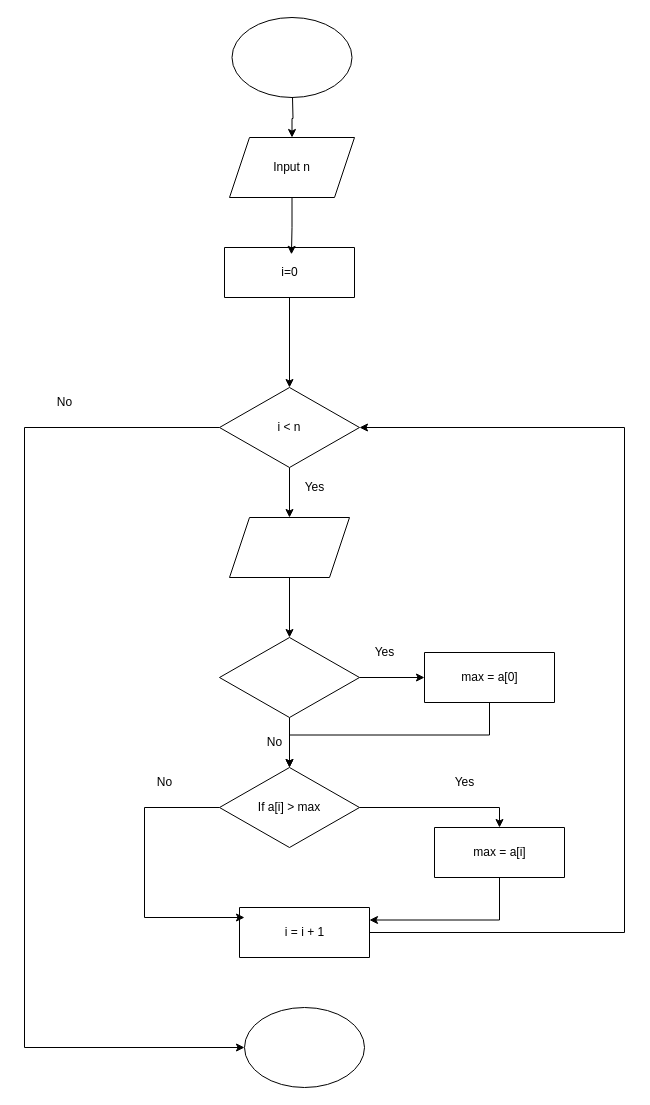
Some shapes in this 650 by 1105 pixel diagram are drawn without their labels. The shapes that lost their labels are listed below. From the top down, each one's centre as x and y in pixels, then its label:
At (291,57): "Begin".
At (289,547): "Input a[i]".
At (289,677): "If i=0".
At (304,1047): "End".
